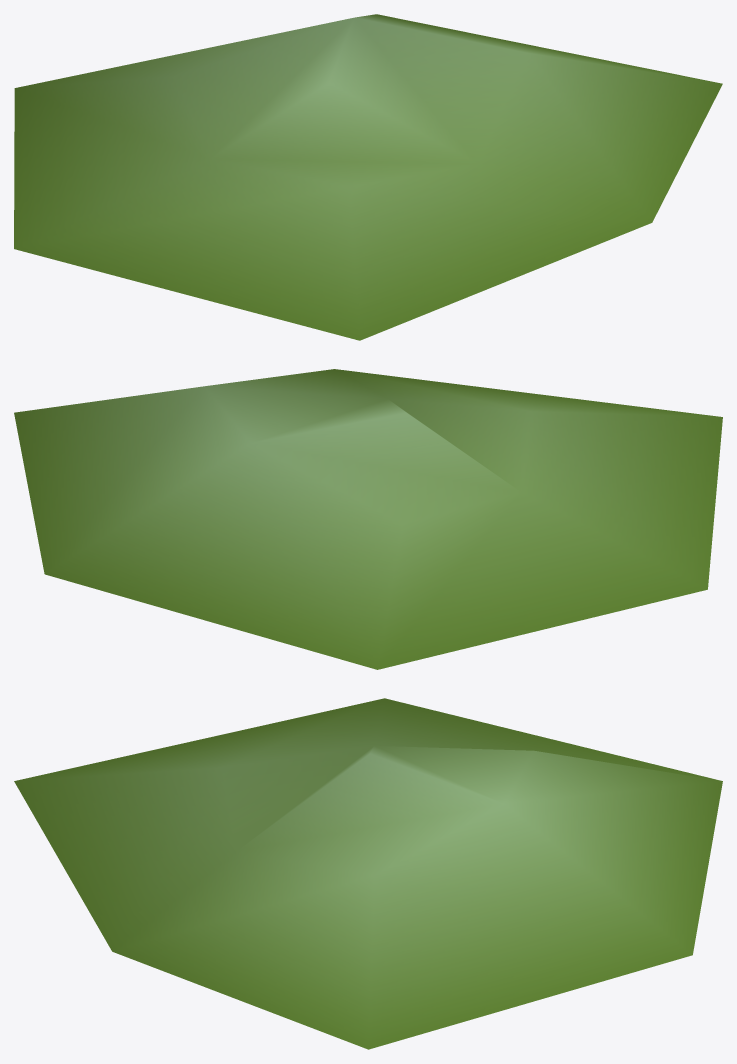
The model's file is w-kulle-cc0.glb.
3 views of the same model, one above another, from view 1: azimuth 30°, elevation 25°; view 2: azimuth 150°, elevation 25°; view 3: azimuth 270°, elevation 25° (orthographic). The views are drawn at different scales.
Parts seen in each view (by area): view 1: Hill001; view 2: Hill001; view 3: Hill001.
Part boxes in pixels (x1,y1,x2,y2): Hill001: [14, 14, 722, 340]; Hill001: [14, 369, 722, 669]; Hill001: [14, 698, 722, 1049].
Bounding box in the file's own units: 708 × 92.77 × 603.
Materials: 1 (1 with a texture image).
